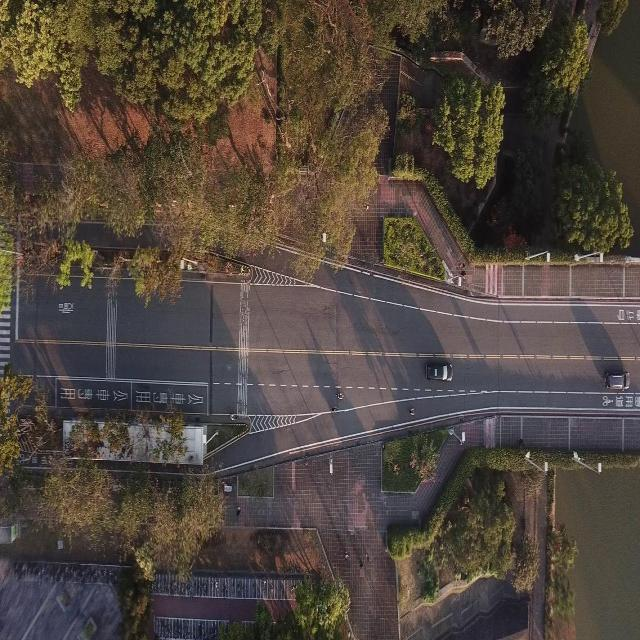bike: (406, 405, 418, 418)
car: (603, 367, 630, 391), (426, 361, 452, 381)
